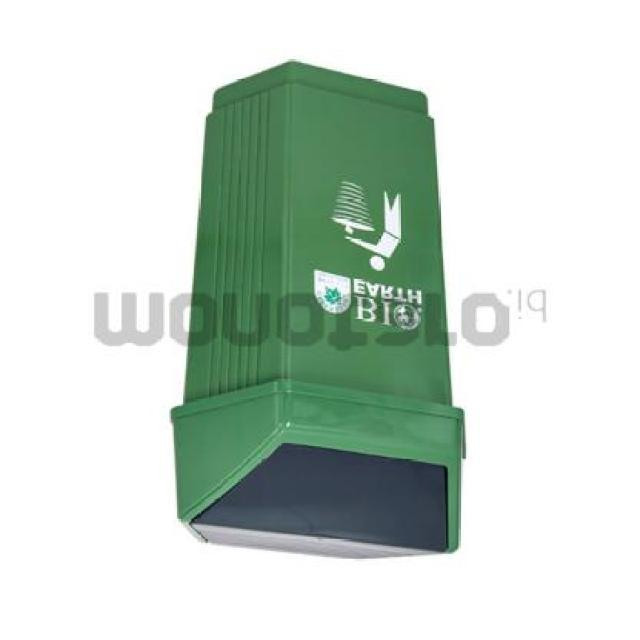garbage container: (162, 46, 470, 568)
